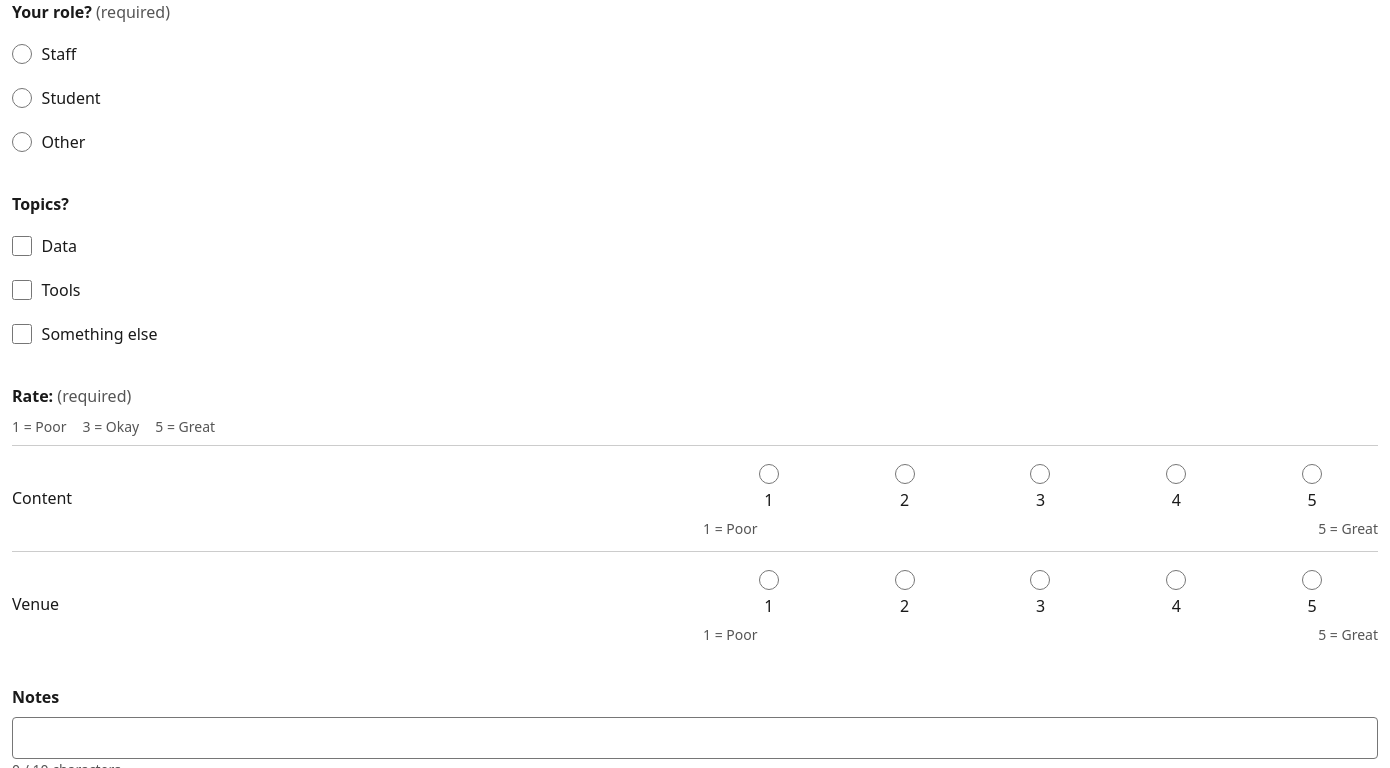
Test: SurveyForm › validates number range on the client
Click the radio button labelled "Staff". click: coordinates (22, 54)
box: [12,44,32,64]
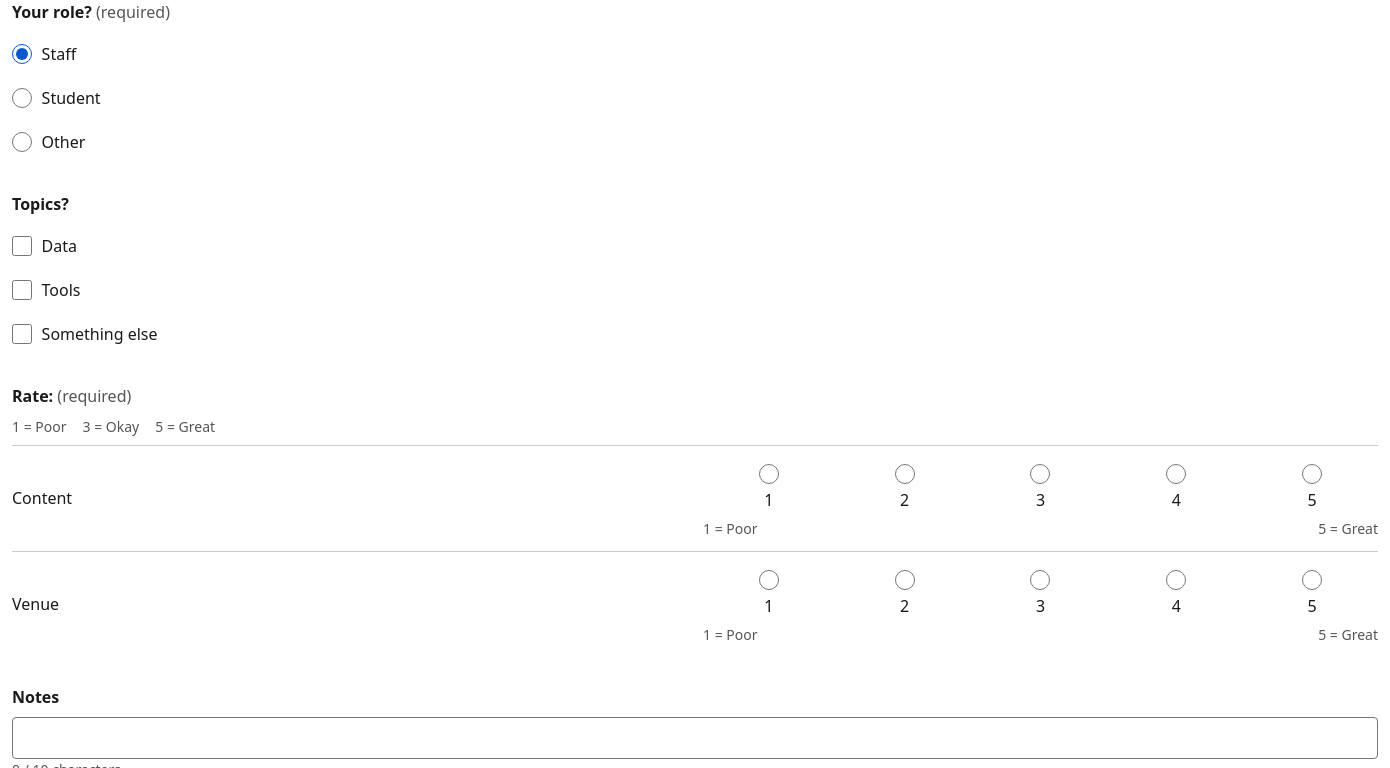
Click the 1st radio button labelled "3". click: coordinates (1040, 474)
box: [1030,464,1050,484]
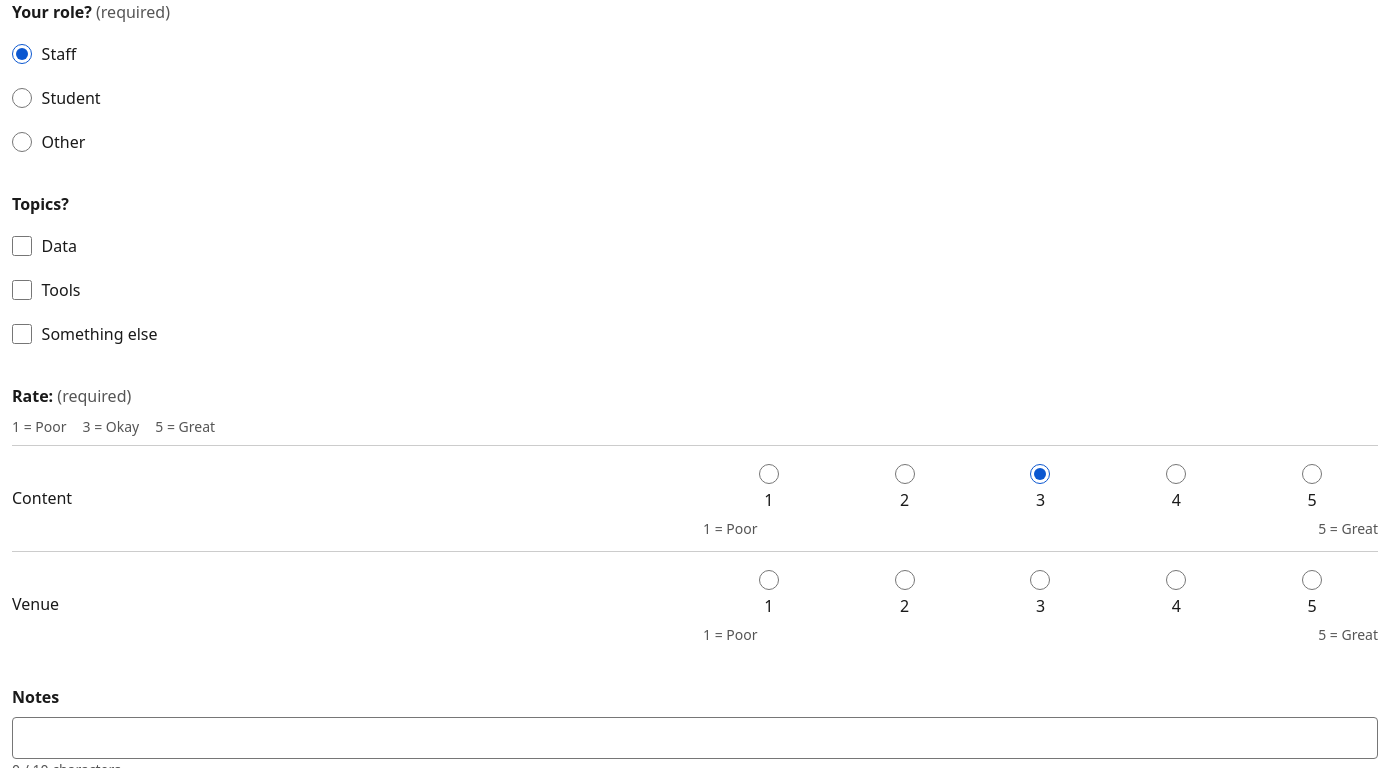
Click the 2nd radio button labelled "5". click: coordinates (1312, 580)
box: [1302,570,1322,590]
(page scrolled)
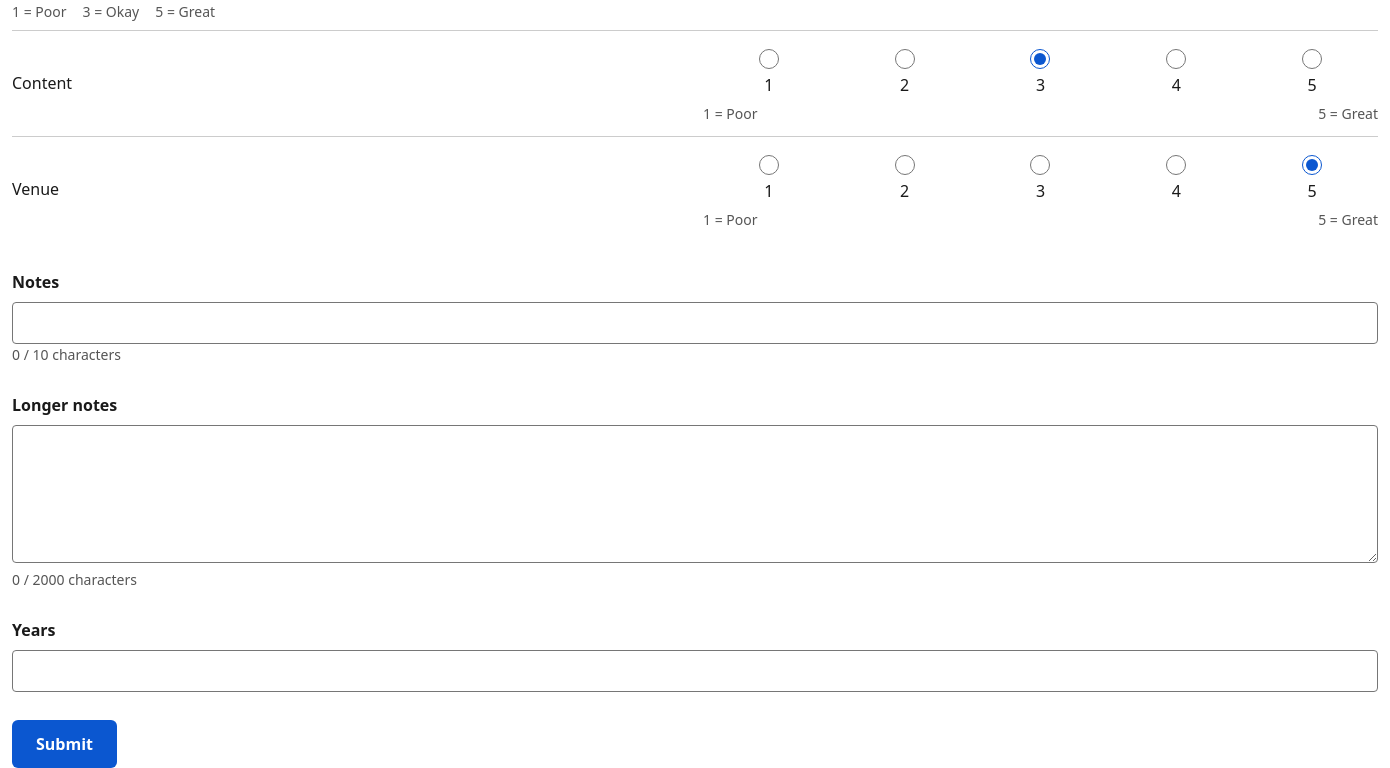
Type "99" into the number field labelled "Years". click: coordinates (695, 671)
box: [12,650,1378,692]
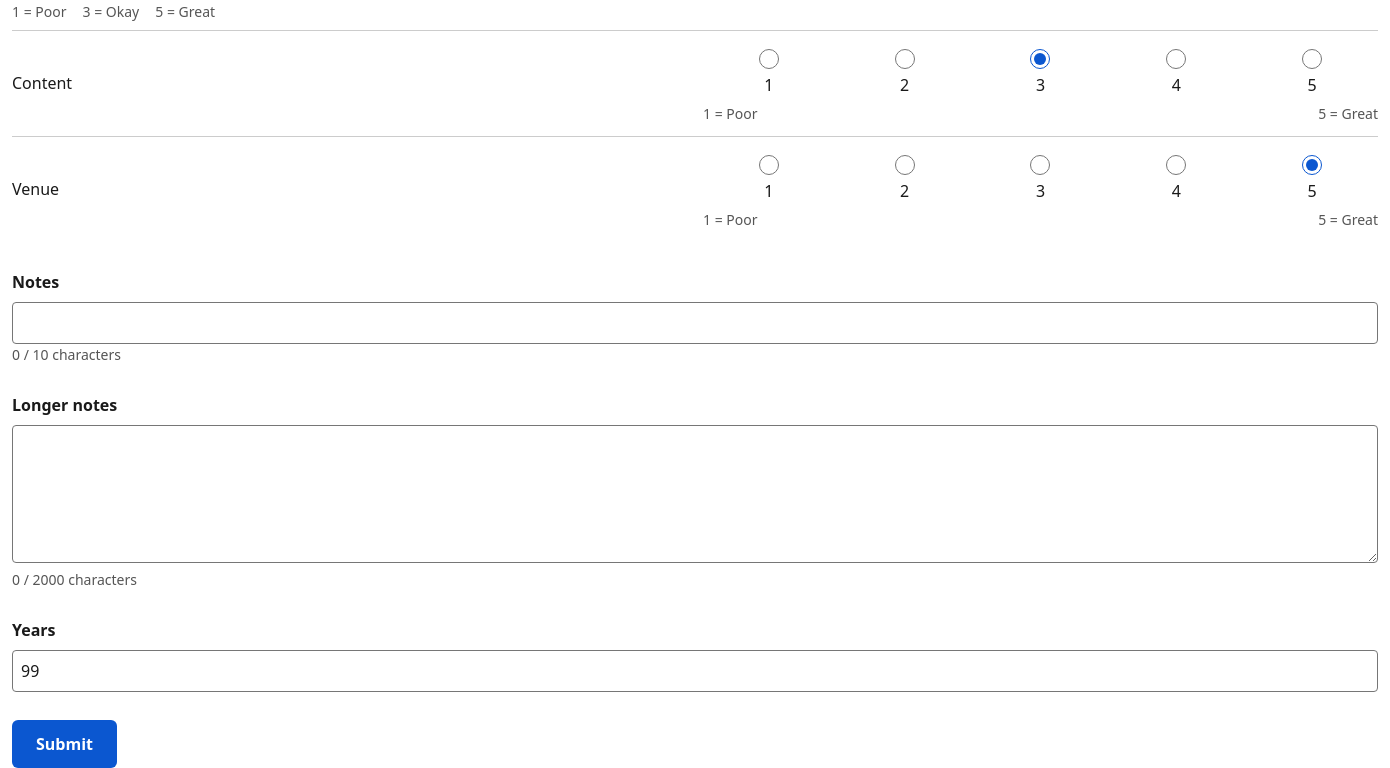
Click the button "Submit". click: coordinates (64, 744)
box: [12,720,117,767]
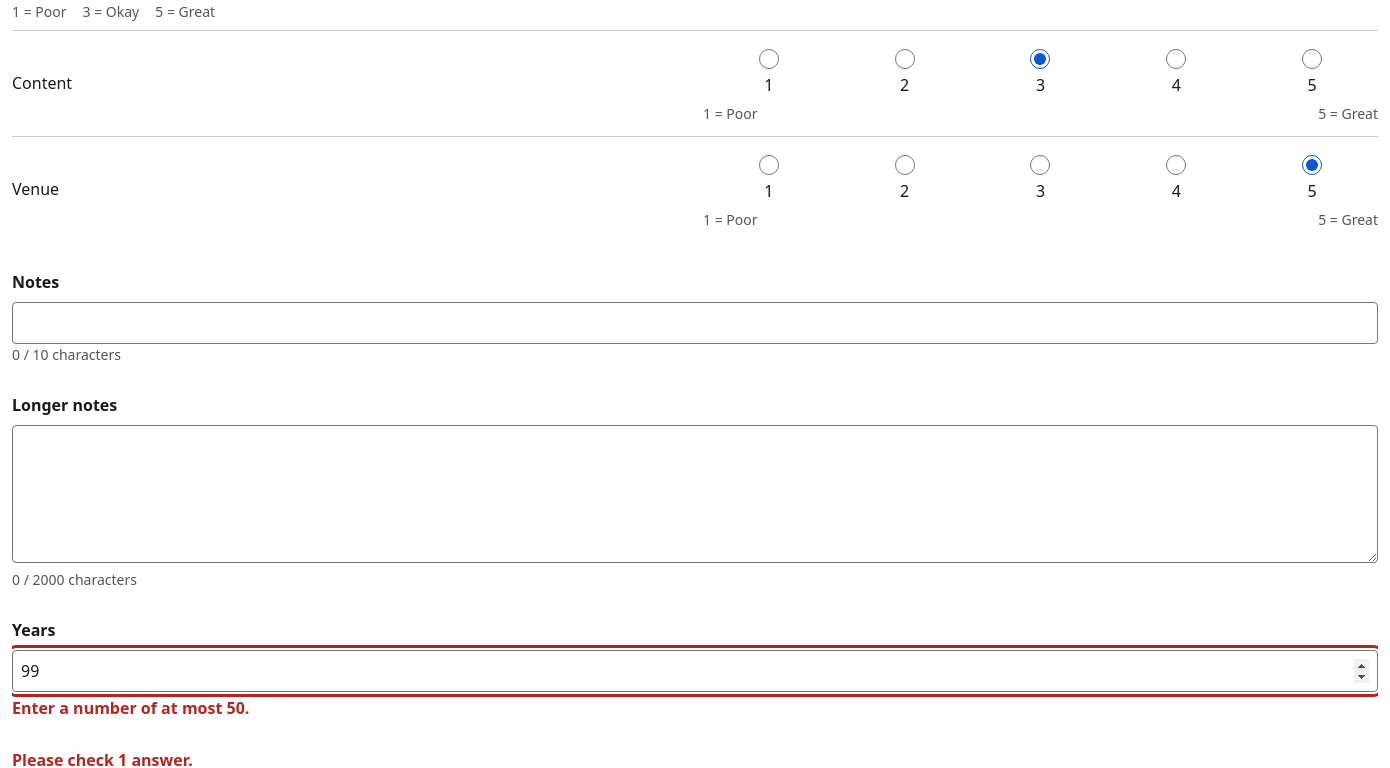
expect the text "Enter a number of at most 50." is shown: met, box [12,697,249,719]
